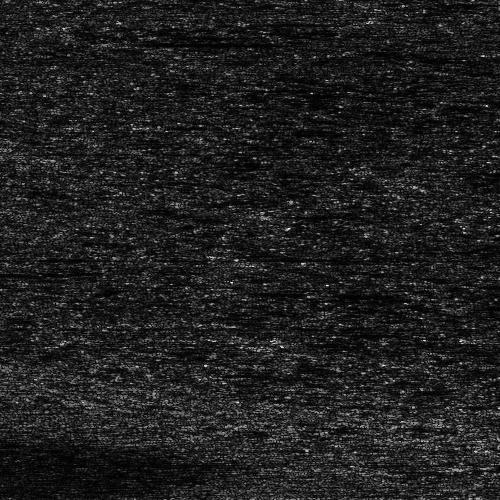object: (87, 39, 150, 46), (487, 239, 500, 248), (460, 304, 491, 307), (216, 289, 227, 296)
shadow: (119, 39, 293, 46), (222, 289, 265, 296), (0, 269, 47, 274), (476, 304, 500, 307)
